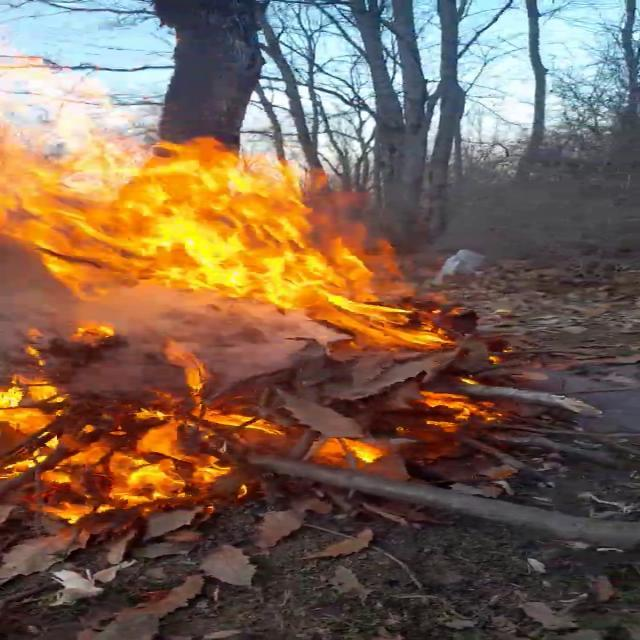Fire: (1, 58, 534, 532)
